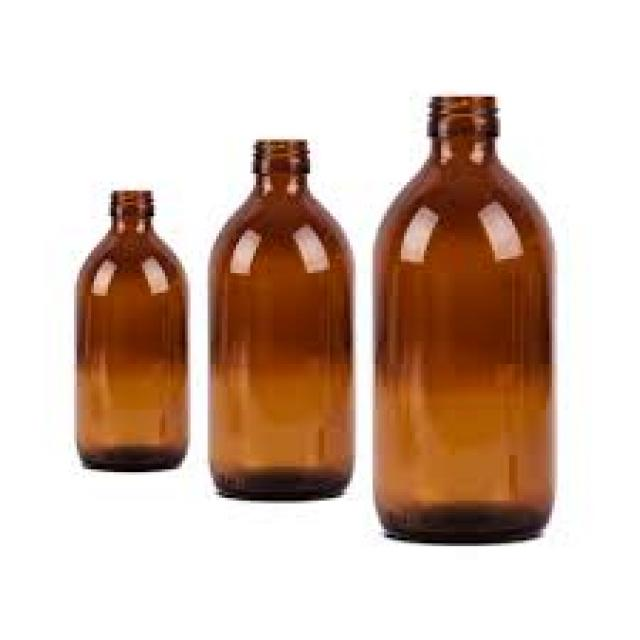Glass: (367, 92, 566, 549), (206, 137, 358, 508), (71, 185, 195, 474)
